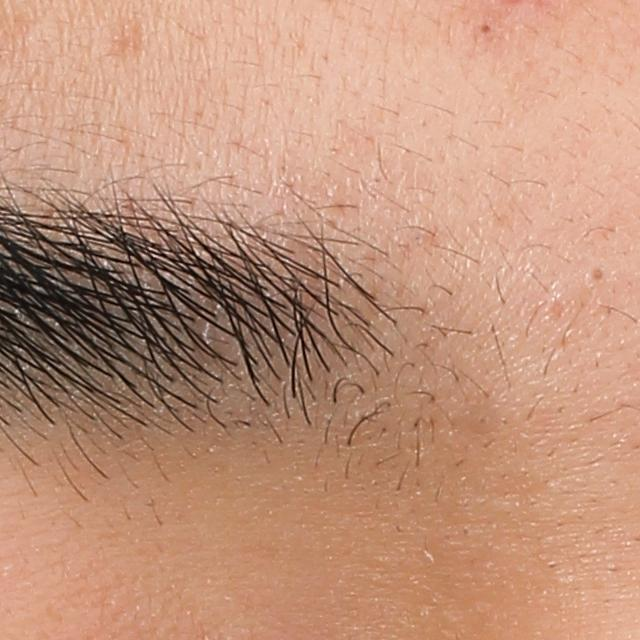comedo: (580, 262, 609, 290), (478, 21, 495, 35)
